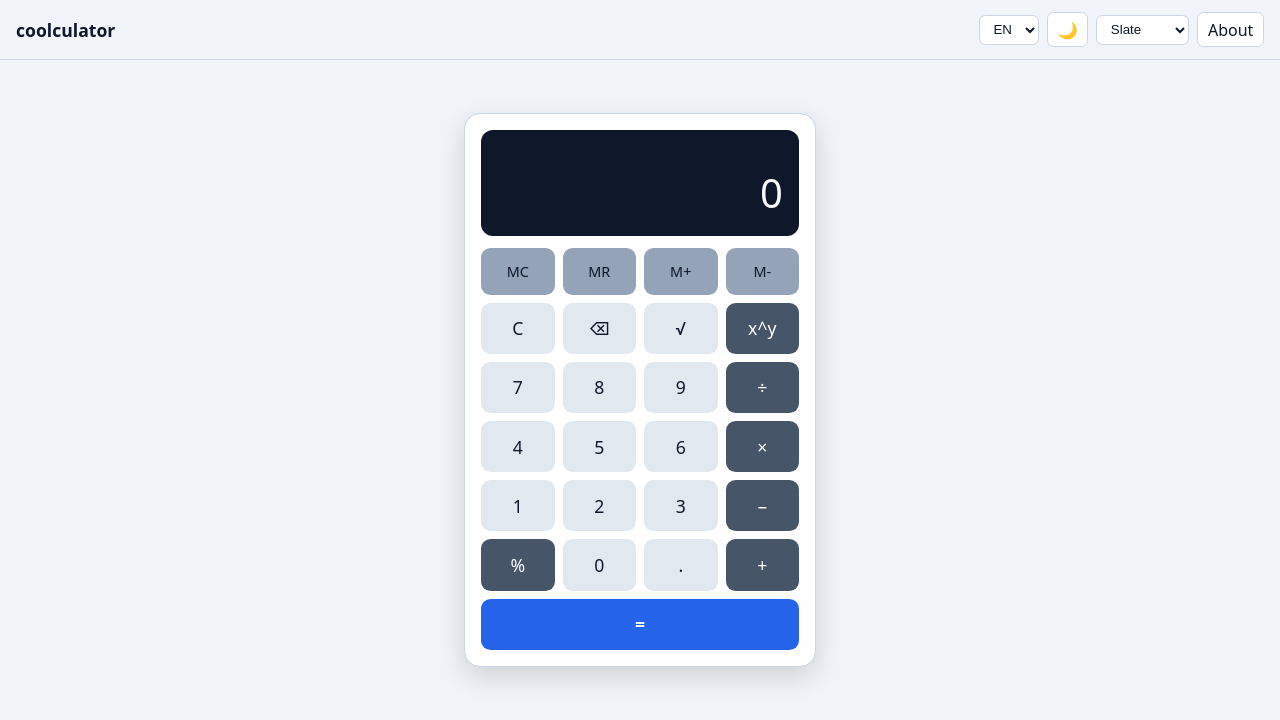
Test case: App — theme and language switching › switching the language select updates visible UI text
expect the button "About" is shown: met, box x1=1197 y1=12 x2=1264 y2=47
Select "ES" in the dropdown named "Language" at {"x": 1009, "y": 30}, box x1=979 y1=14 x2=1039 y2=45
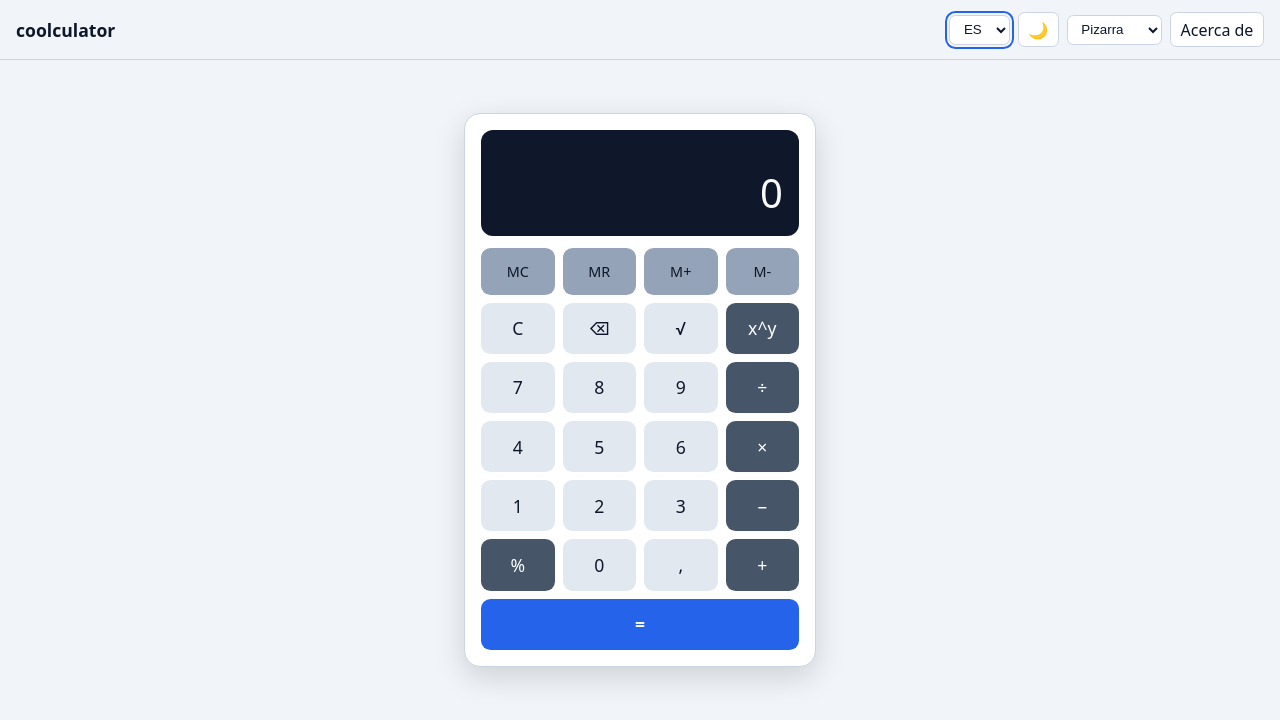
expect the button "Acerca de" is shown: met, box x1=1170 y1=12 x2=1264 y2=47
